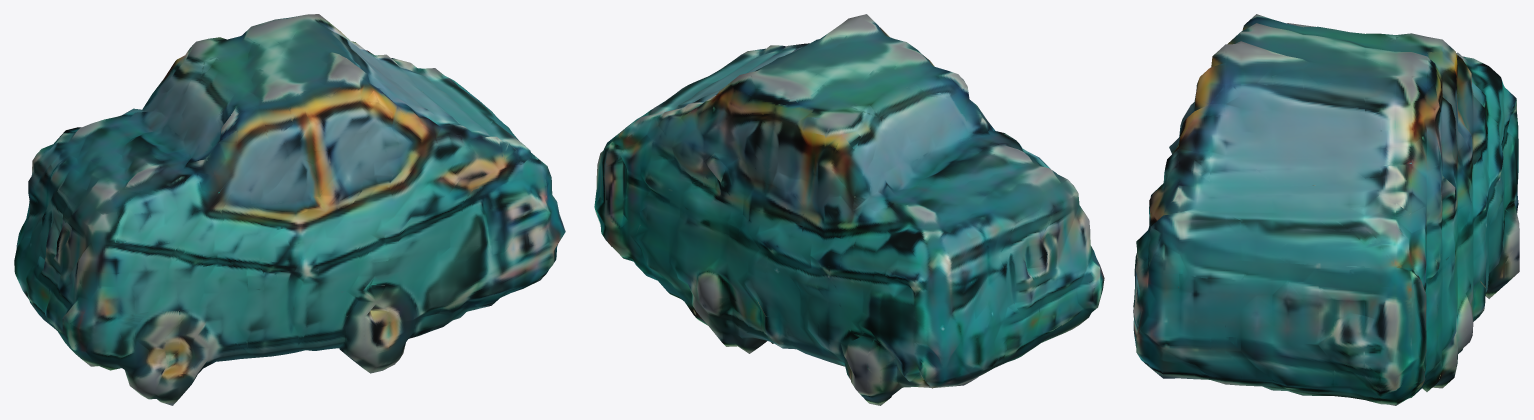
The model's file is editable.obj.
3 views of the same model, side by side, from view 1: azimuth 30°, elevation 25°; view 2: azimuth 150°, elevation 25°; view 3: azimuth 270°, elevation 25° (orthographic). The views are drawn at different scales.
Bounding box in the file's own units: 1.07 × 0.6308 × 0.6887.
1 material, 1 textured.
